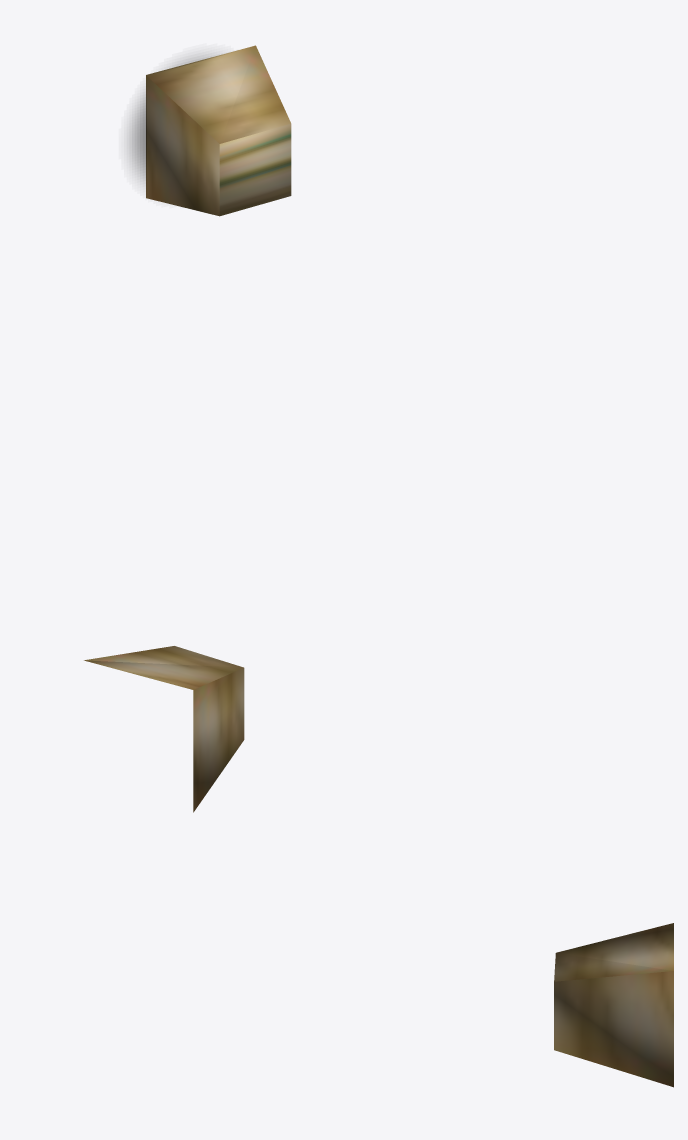
The model's file is prop_DL_post_three_light.glb.
3 renders of one model, top to bottom at view 1: azimuth 30°, elevation 25°; view 2: azimuth 150°, elevation 25°; view 3: azimuth 270°, elevation 25°, orthographic. The views are drawn at different scales.
Visible parts, largest first — view 1: o15, g9; view 2: o15; view 3: o15.
Part boxes in pixels (box(x1,y1,x2,y2)): o15: box(146, 45, 291, 216); g9: box(129, 55, 216, 183); o15: box(84, 646, 244, 812); o15: box(554, 923, 673, 1087).
Bounding box in the file's own units: 5.82 × 3.2 × 11.3.
Materials: 2 (2 with a texture image).
